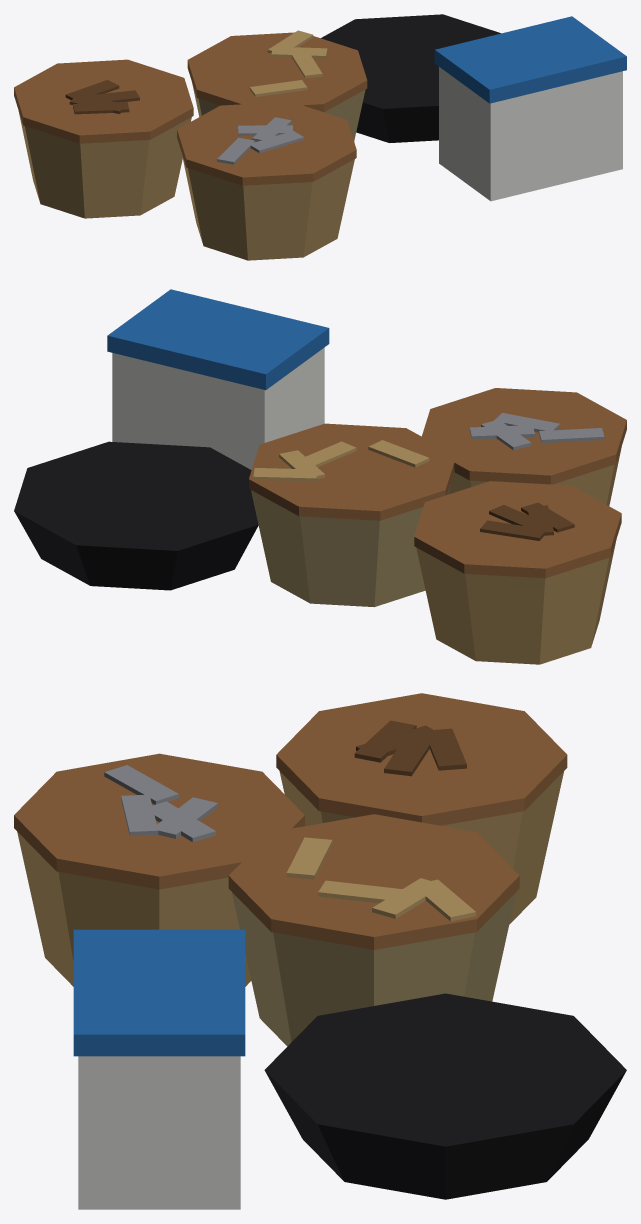
File: prop_fish-baskets.32a2e4488a9b.glb
3 views of the same model, one above another, from view 1: azimuth 30°, elevation 25°; view 2: azimuth 150°, elevation 25°; view 3: azimuth 270°, elevation 25° (orthographic). The views are drawn at different scales.
Parts seen in each view (by area): view 1: body; view 2: body; view 3: body.
Part boxes in pixels (x1,y1,x2,y2): body: [14, 14, 626, 260]; body: [14, 289, 626, 664]; body: [14, 693, 626, 1209].
Size of the model in its own units: 1.88 by 0.41 by 1.28.
